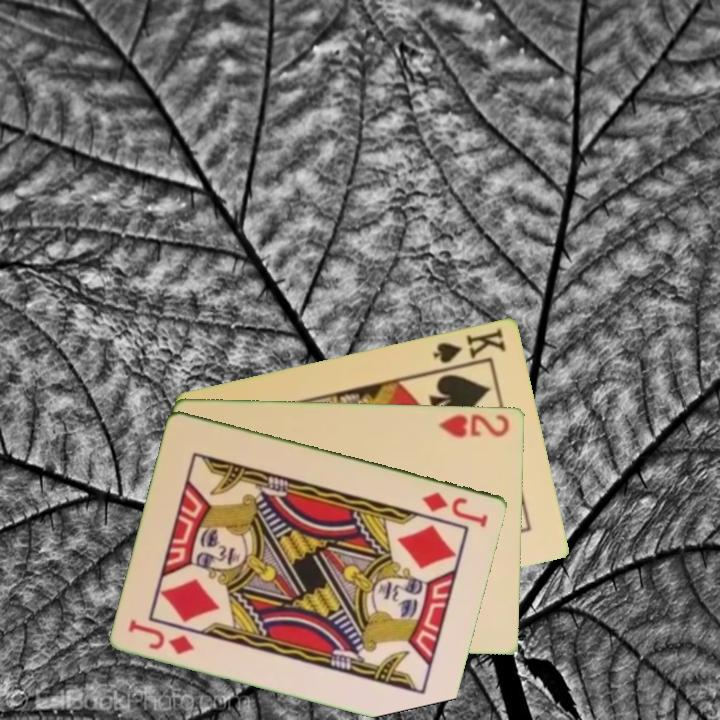2h: (435, 410, 512, 440)
Jd: (125, 615, 198, 657), (419, 488, 491, 530)
Ks: (429, 324, 509, 372)
